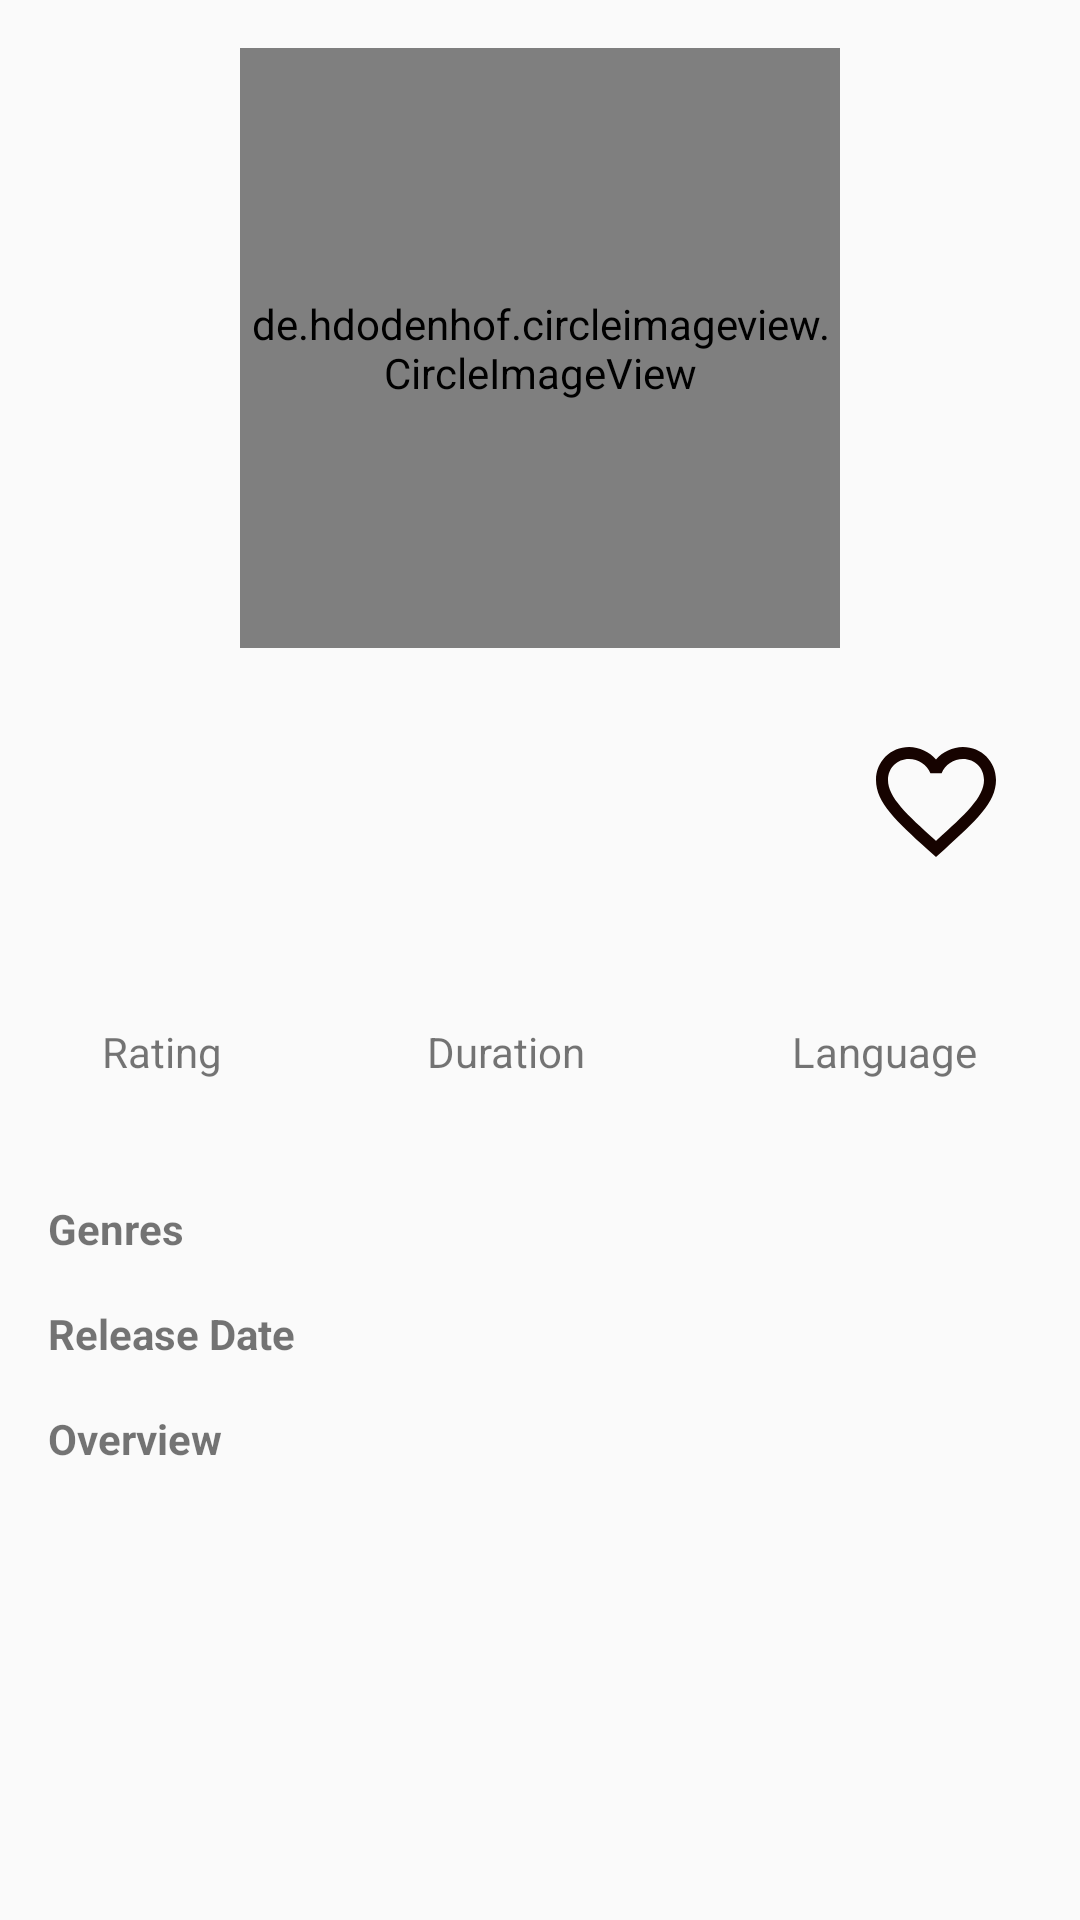

Icon click points for this 1080w x 1920h phone screenshot, format (x=x, y=y):
favorite unactive: (x=936, y=802)
